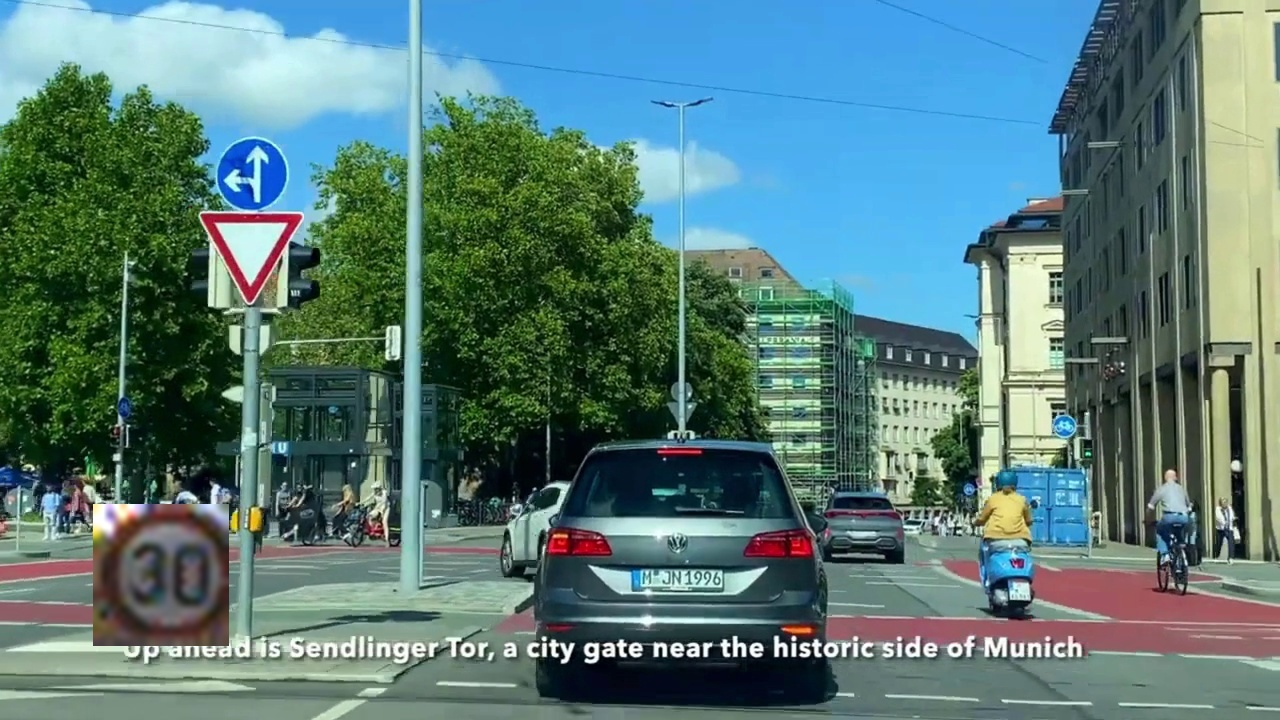Speed 30: (93, 504, 229, 646)
